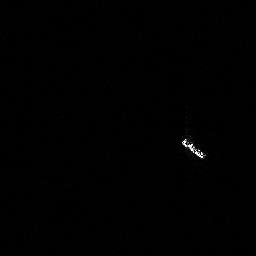ship: (179, 134, 209, 161)
